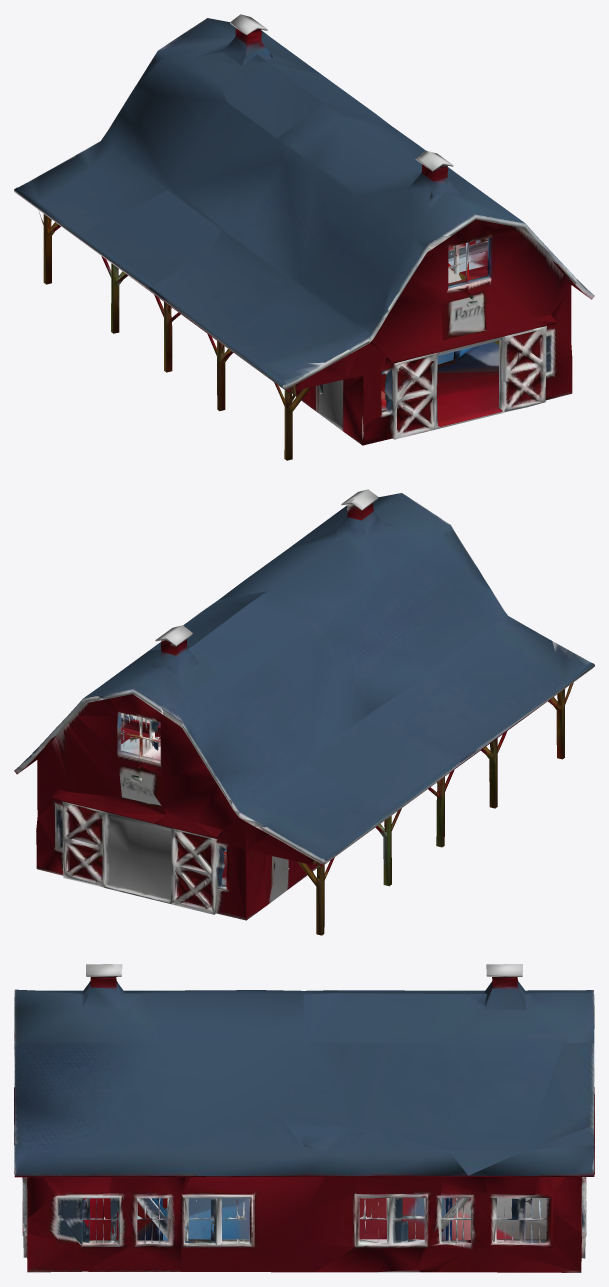
File: barn.glb
3 renders of one model, top to bottom at view 1: azimuth 30°, elevation 25°; view 2: azimuth 150°, elevation 25°; view 3: azimuth 270°, elevation 25°, orthographic. The views are drawn at different scales.
Visible parts, largest first — view 1: tripo_node_7ef9160e; view 2: tripo_node_7ef9160e; view 3: tripo_node_7ef9160e.
Part boxes in pixels (left/top/right/bottom): tripo_node_7ef9160e: left=14, top=14, right=594, bottom=460; tripo_node_7ef9160e: left=14, top=489, right=594, bottom=935; tripo_node_7ef9160e: left=14, top=964, right=594, bottom=1272.
Size of the model in its own units: 1.36 by 1 by 2.03.
1 material, 1 textured.
